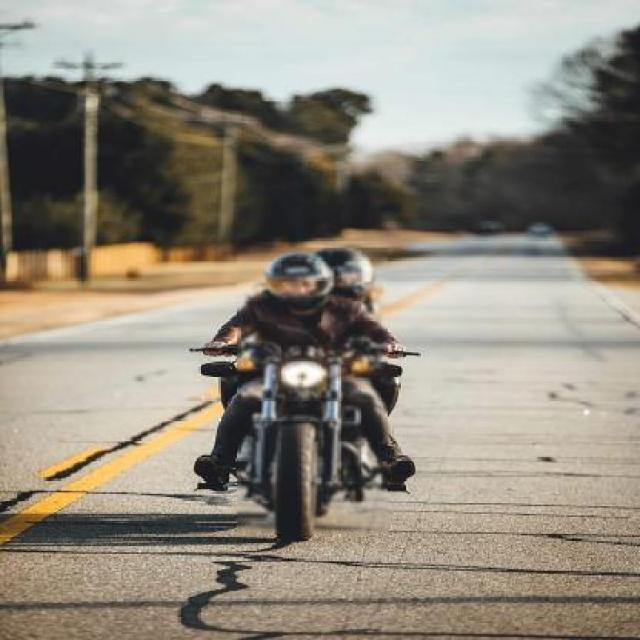helmet: (302, 208, 396, 304), (246, 236, 336, 320)
motorcycle: (170, 189, 428, 572)
